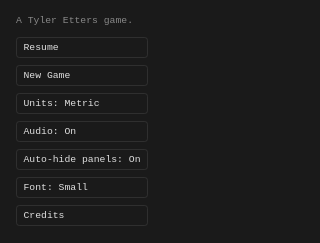
Test: Menu › cancels new game confirmation
The width and height of the screenshot is (320, 243).
Click the button "New Game" at (82, 75), box [16, 65, 148, 86]
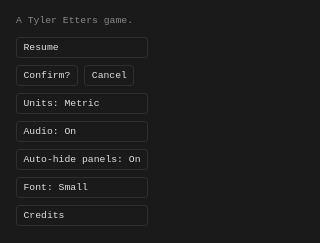
Click the button "Cancel" at (109, 75), box [84, 65, 134, 86]
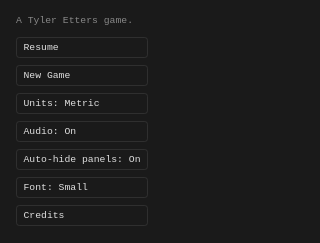
Expected: the button "New Game" is shown, [16, 65, 148, 86]
